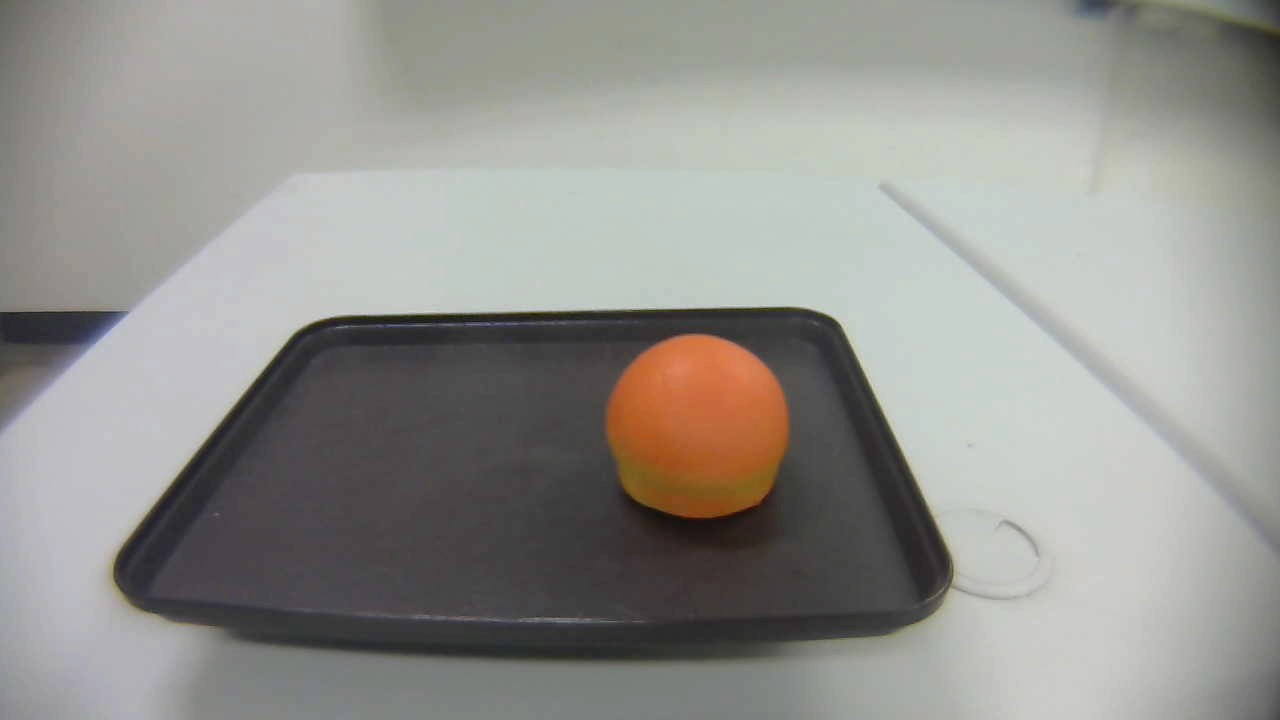bun: (604, 331, 789, 520)
